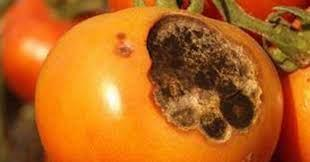tomato early blight: (36, 11, 283, 162)
